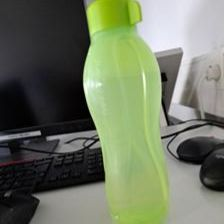bottle: (81, 1, 170, 223)
